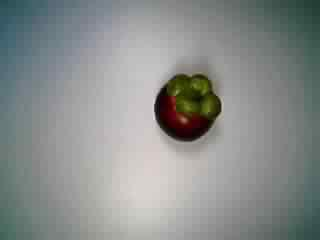mangosteen: (147, 70, 225, 142)
